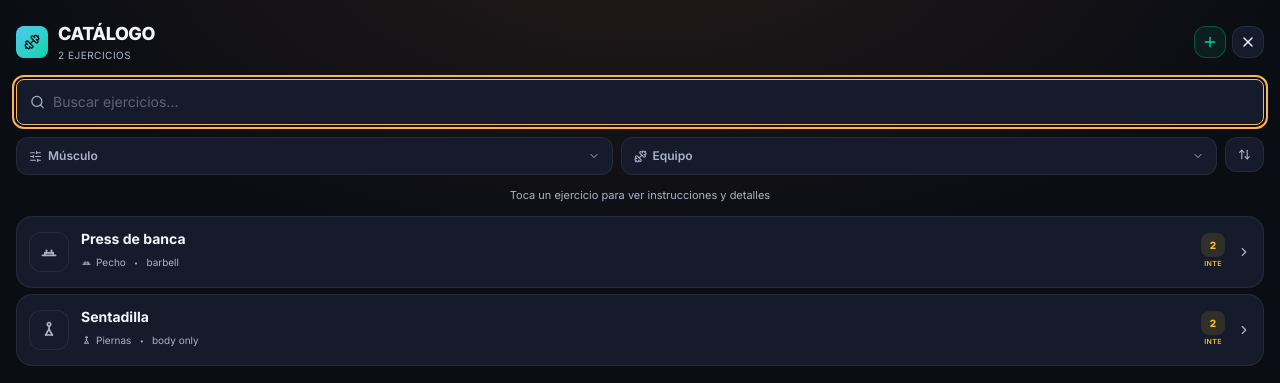
Test case: ExerciseCatalogScreen — visuals › filters exercises by search query
Expected: the text "2 ejercicios" is shown, [58,49,131,61]
Note: Type in search
Step 1. Type "sentadilla" into the field with placeholder "Buscar ejercicios..." → (640,102), box [16,79,1264,125]
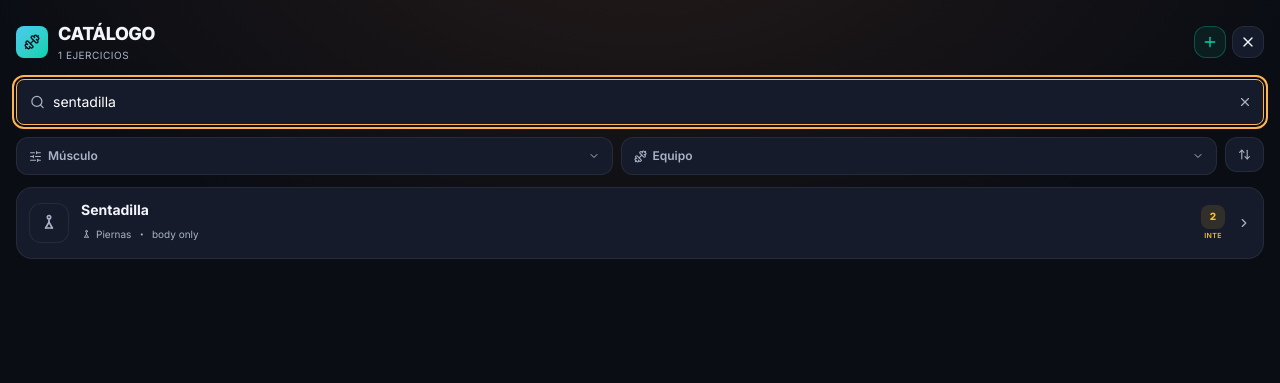
Expected: the text "Sentadilla" is shown, [81,200,149,220]
Result: the button "Press de banca" is gone
